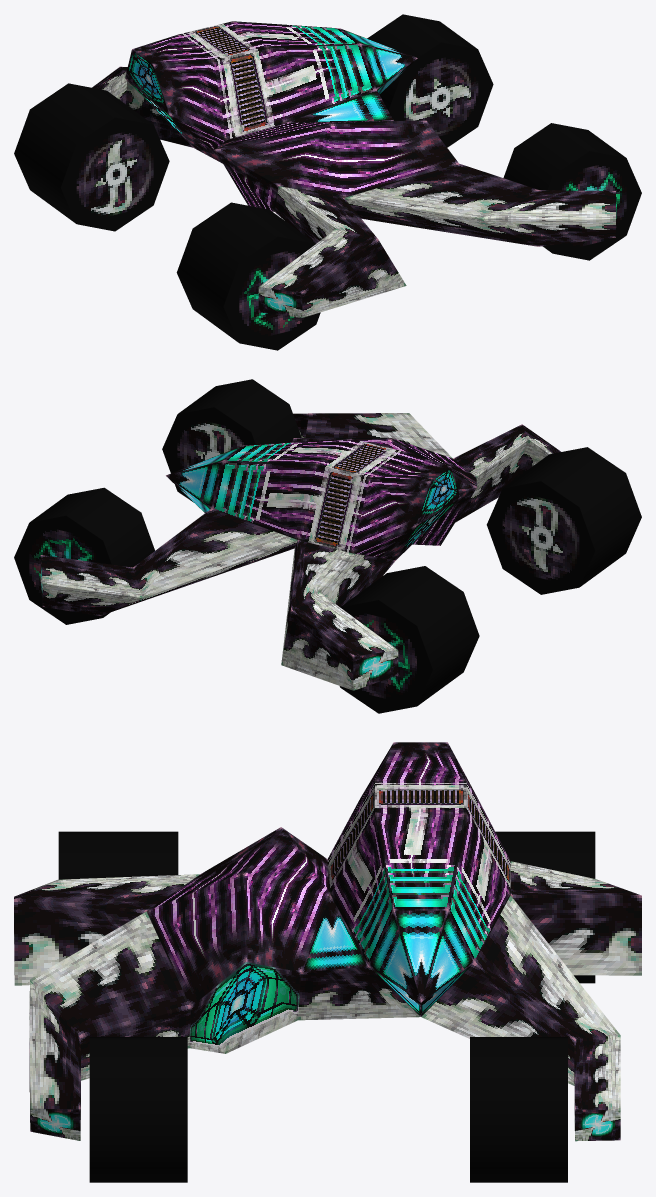
File: Arakn.glb
3 views of the same model, one above another, from view 1: azimuth 30°, elevation 25°; view 2: azimuth 150°, elevation 25°; view 3: azimuth 270°, elevation 25° (orthographic). The views are drawn at different scales.
Visible parts, largest first — view 1: ChassisSR0, WheelRL, WheelRR, WheelFL, WheelFR; view 2: ChassisSR0, WheelRR, WheelRL, WheelFL, WheelFR; view 3: ChassisSR0, WheelFR, WheelFL, WheelRR, WheelRL.
Boxes of the visible parts, box(x1,y1,x2,y2) form: ChassisSR0: box(92, 21, 615, 317); WheelRL: box(14, 83, 169, 231); WheelRR: box(176, 202, 320, 350); WheelFL: box(367, 14, 493, 147); WheelFR: box(503, 123, 641, 260); ChassisSR0: box(40, 413, 560, 690); WheelRR: box(486, 447, 641, 594); WheelRL: box(339, 566, 479, 713); WheelFL: box(14, 487, 154, 624); WheelFR: box(162, 379, 301, 502); ChassisSR0: box(14, 742, 641, 1141); WheelFR: box(89, 1037, 187, 1182); WheelFL: box(470, 1037, 567, 1182); WheelRR: box(58, 831, 178, 879); WheelRL: box(495, 831, 595, 983).
Size of the model in its own units: 4.88 by 2.04 by 4.81.
2 materials, 1 textured.
